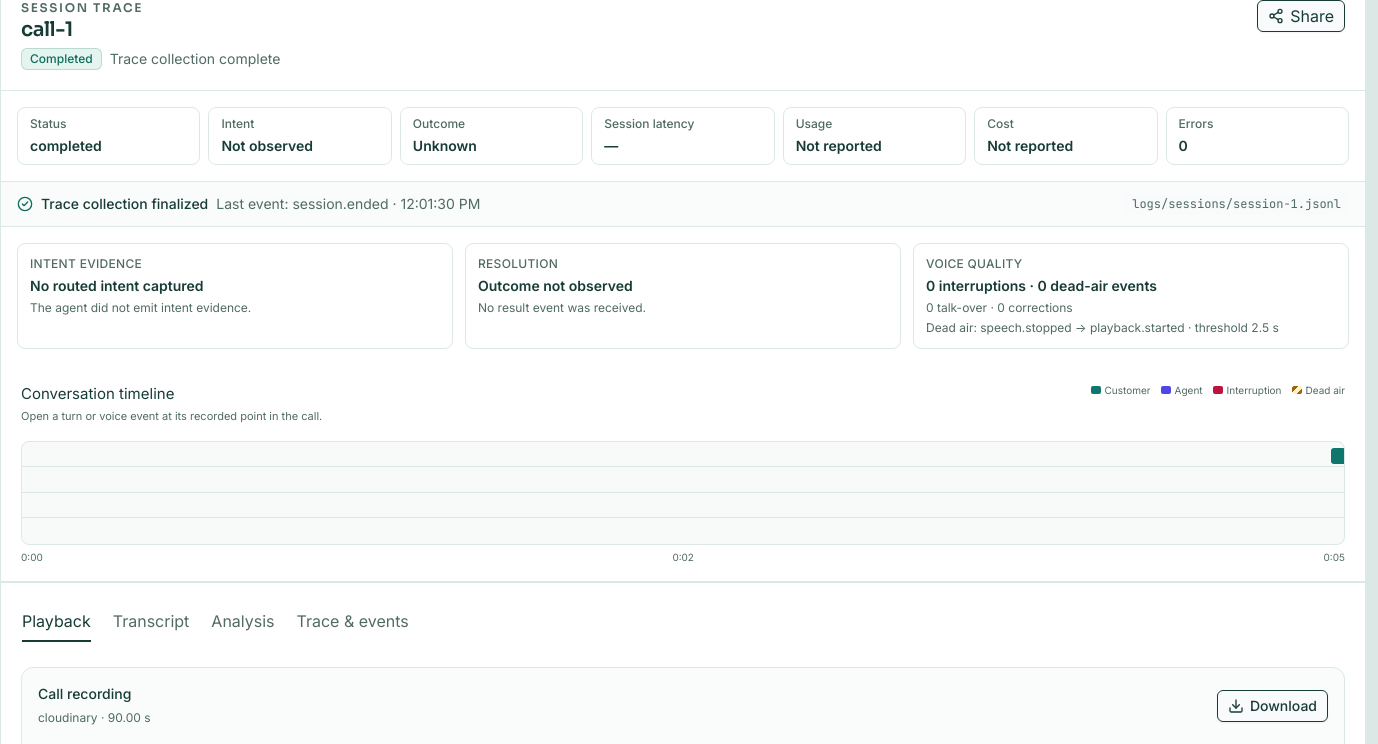
Test case: seeks the waveform and marks the matching transcript turn
The image size is (1378, 744).
Press the mouse on the tab "Transcript": (151,620) [112,603,190,638]
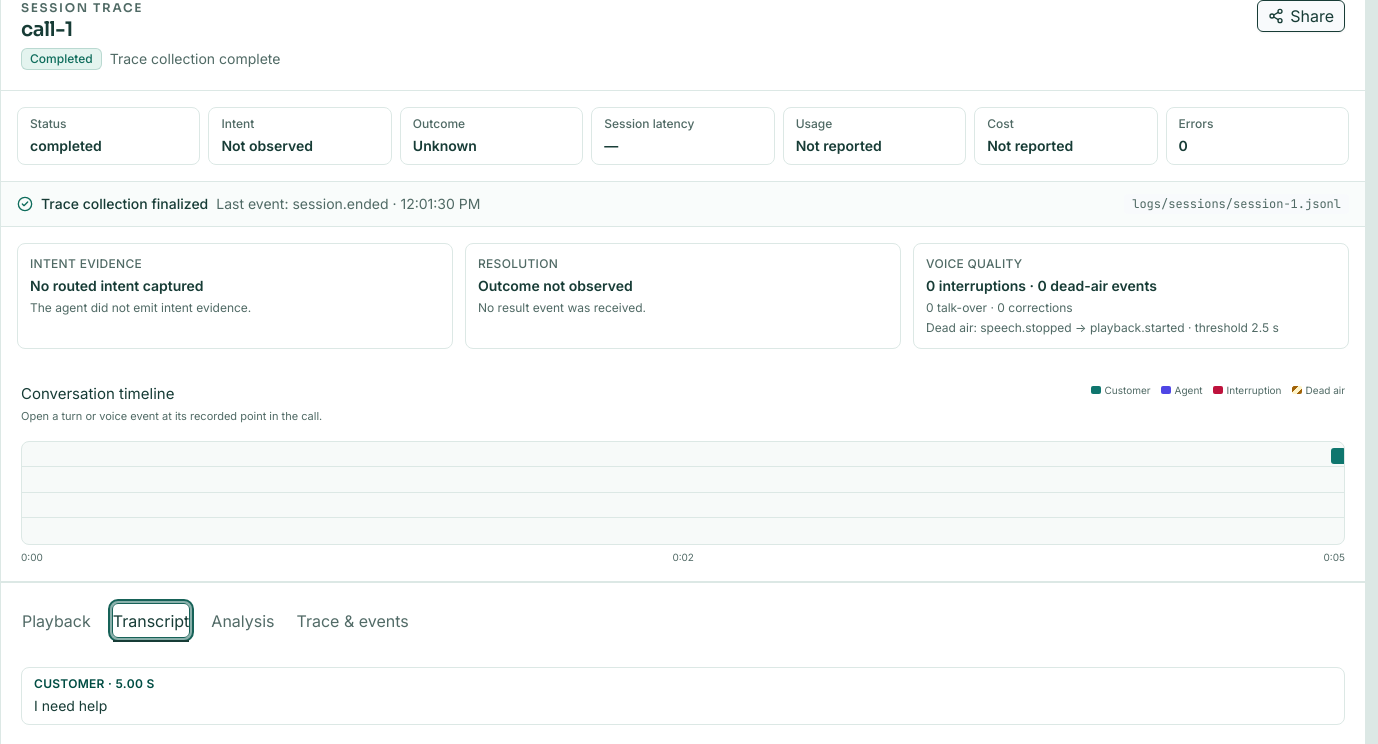
Expected: the heading "Conversation timeline" is shown, [21,384,174,402]
Click the button "customer · 5.00 s I need help": (69,683) [21,666,1345,724]
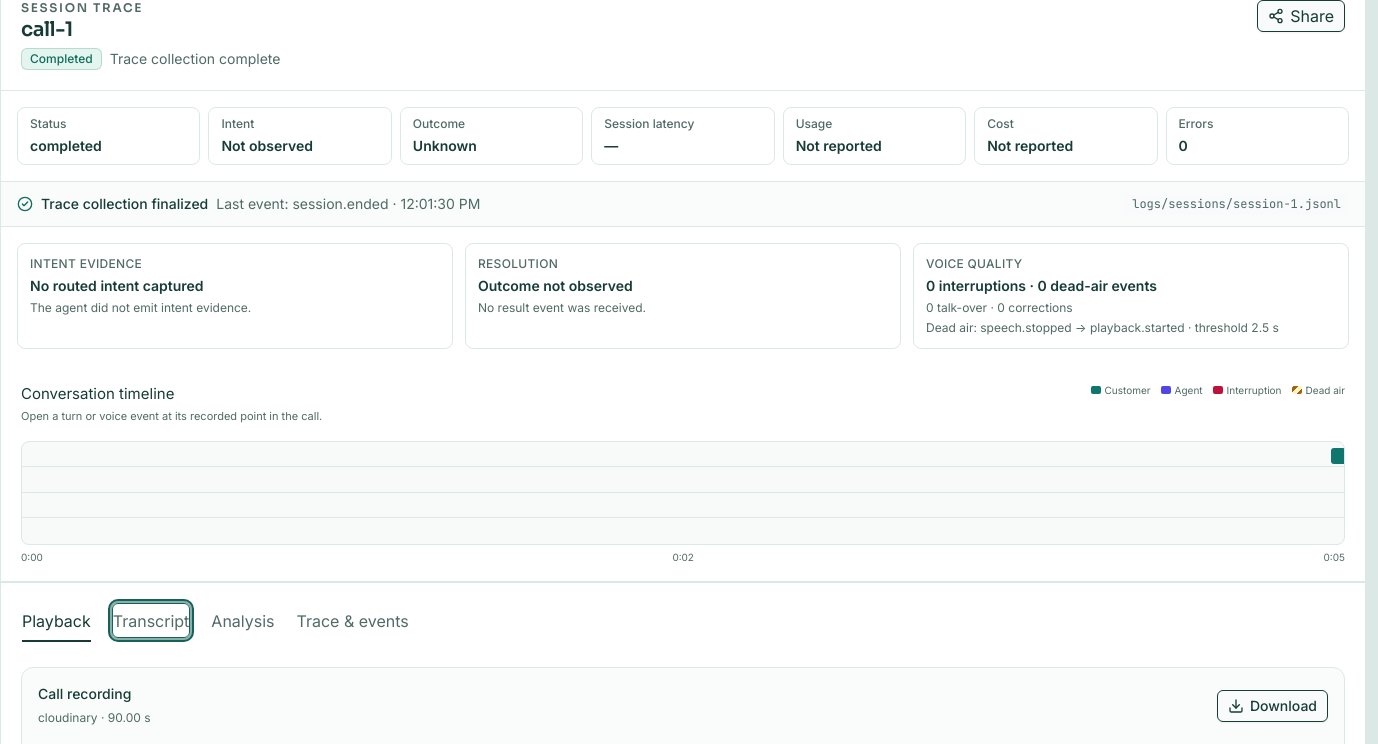
Expected: the text "threshold 2.5 s" is shown, [1184,320,1279,334]
Press the mouse on the tab "Analysis": (243,620) [210,603,276,638]
(page scrolled)
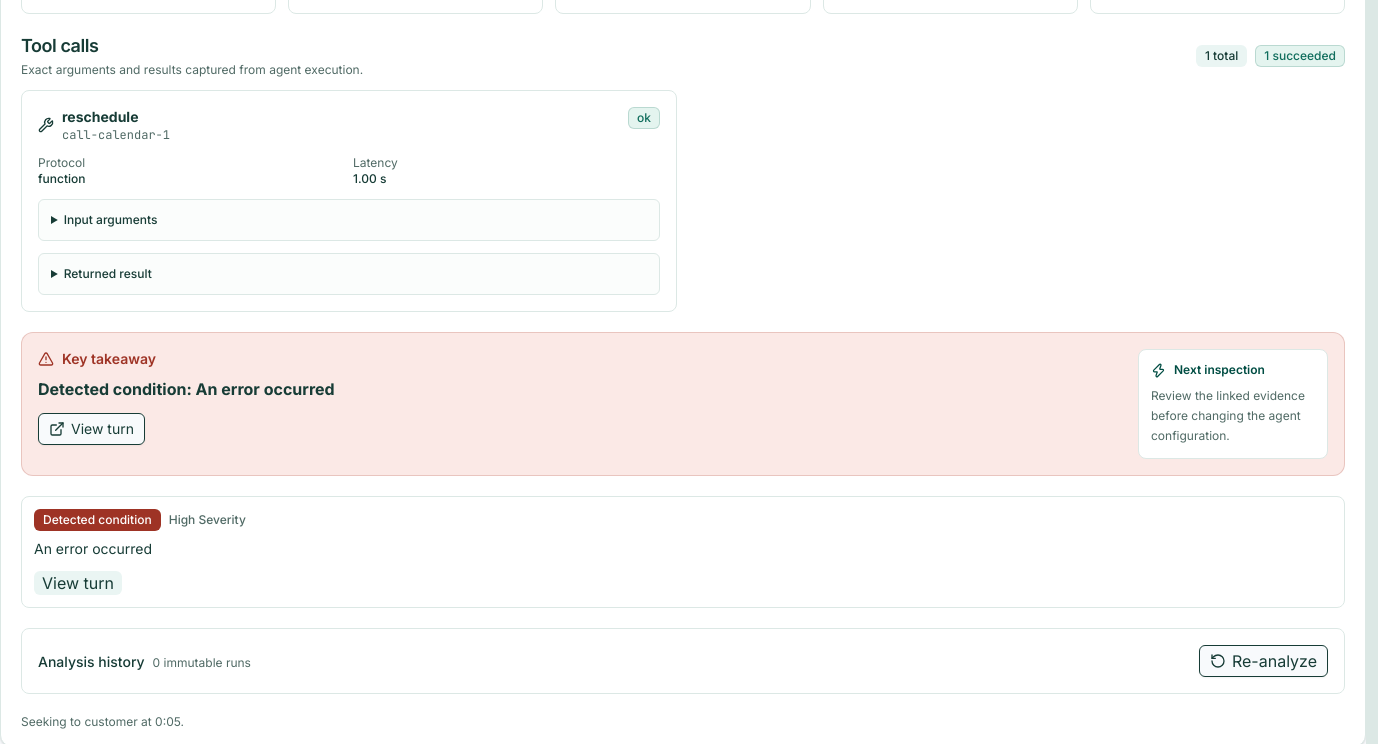
Expected: the heading "Tool calls" is shown, [21,34,98,56]
Expected: the text "reschedule" is shown, [62,108,138,125]
Expected: the text "1 succeeded" is shown, [1255,45,1345,67]
Click the button "View turn" below "Key takeaway": (92,429) [38,413,145,445]
(page scrolled)
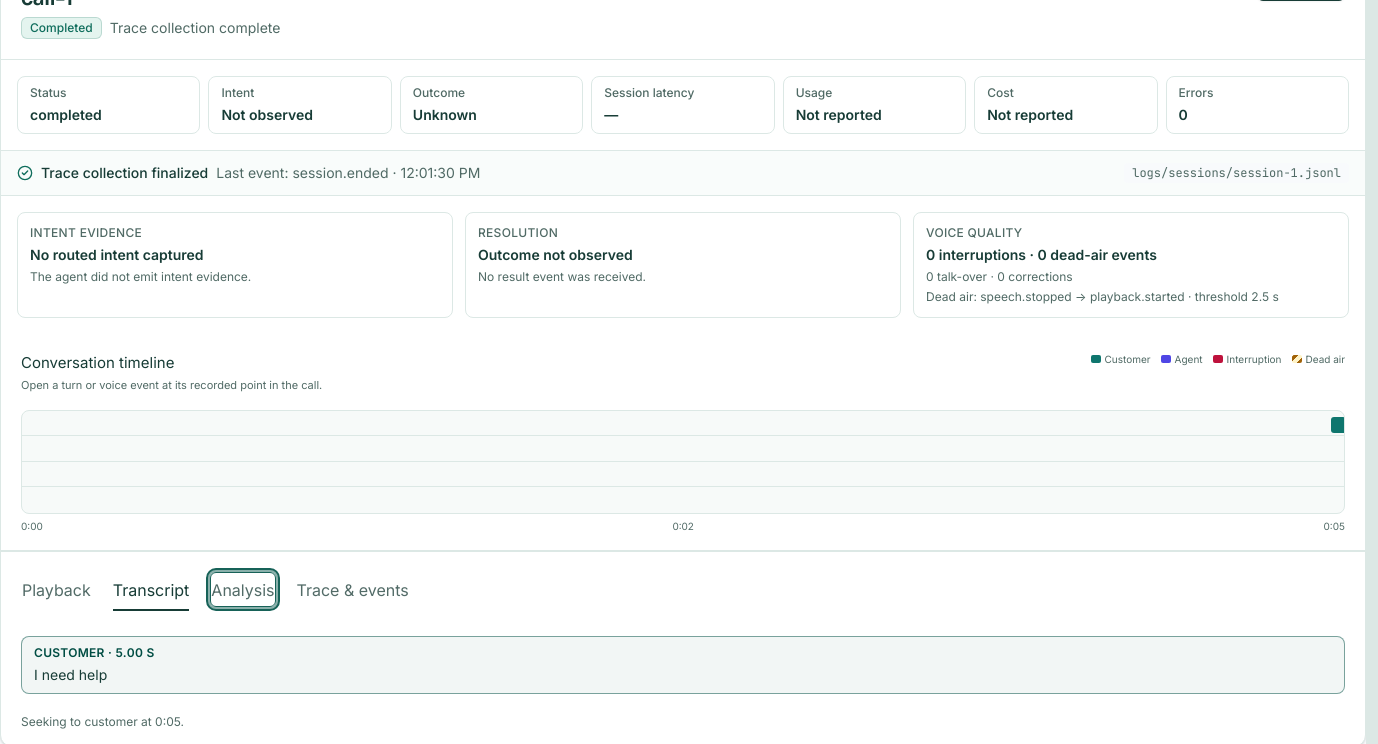
Expected: the button with id "turn-turn-1" is shown, [21,636,1345,694]
